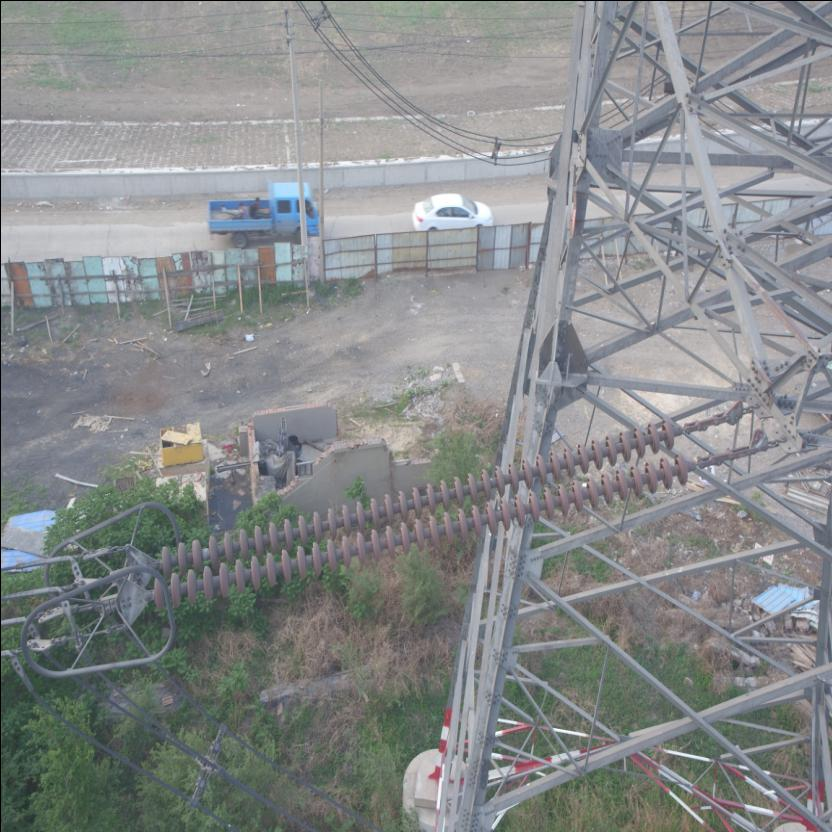insulator: (144, 407, 720, 614)
